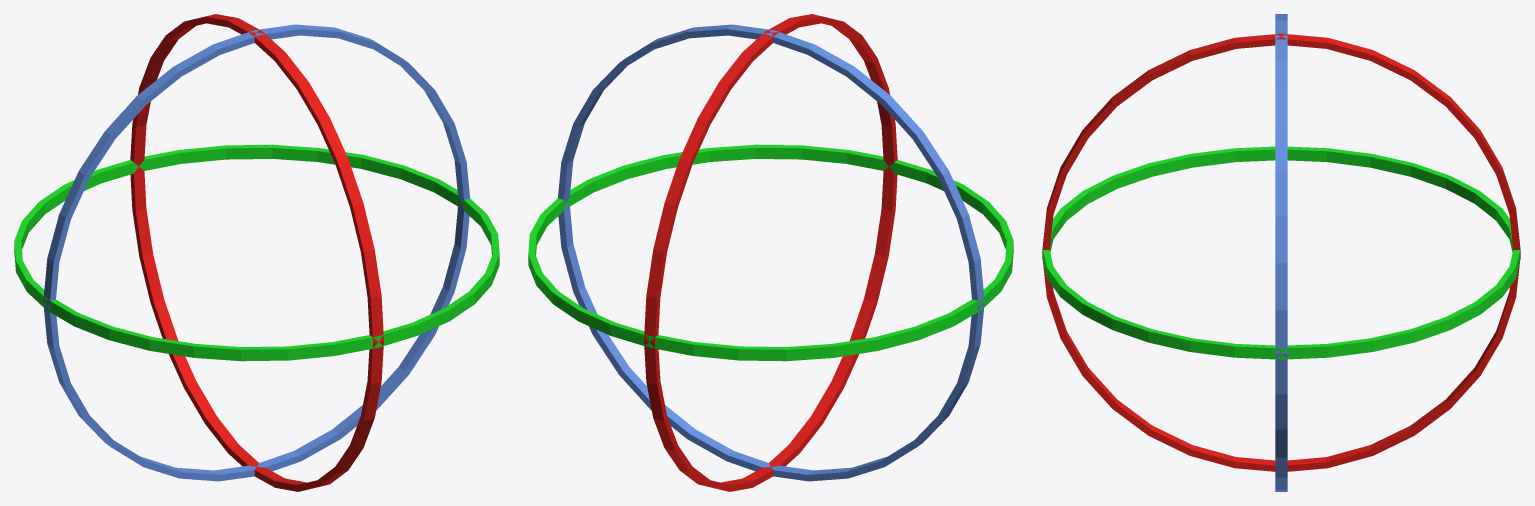
The model's file is RotationHelper_01.glb.
3 views of the same model, side by side, from view 1: azimuth 30°, elevation 25°; view 2: azimuth 150°, elevation 25°; view 3: azimuth 270°, elevation 25° (orthographic).
Parts seen in each view (by area): view 1: Cylinder.008, Cylinder.006, Cylinder.007; view 2: Cylinder.008, Cylinder.006, Cylinder.007; view 3: Cylinder.007, Cylinder.006, Cylinder.008.
Part boxes in pixels (x1,y1,x2,y2): Cylinder.008: (43, 24, 469, 481); Cylinder.006: (130, 14, 383, 491); Cylinder.007: (14, 144, 499, 361); Cylinder.008: (558, 24, 984, 481); Cylinder.006: (644, 14, 897, 491); Cylinder.007: (528, 144, 1013, 361); Cylinder.007: (1042, 146, 1520, 359); Cylinder.006: (1042, 33, 1520, 471); Cylinder.008: (1275, 14, 1287, 491).
Bounding box in the file's own units: 1.27 × 1.27 × 1.27.
